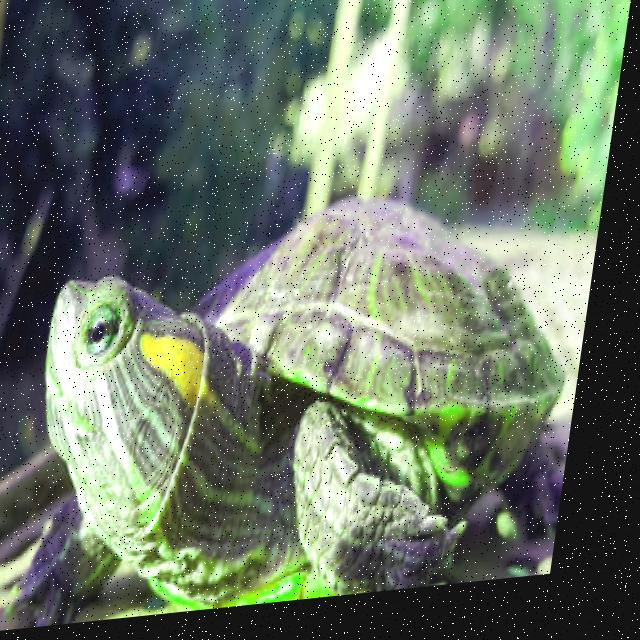terrapin: (4, 150, 618, 634), (13, 241, 242, 565), (148, 351, 363, 622), (294, 444, 517, 610)
